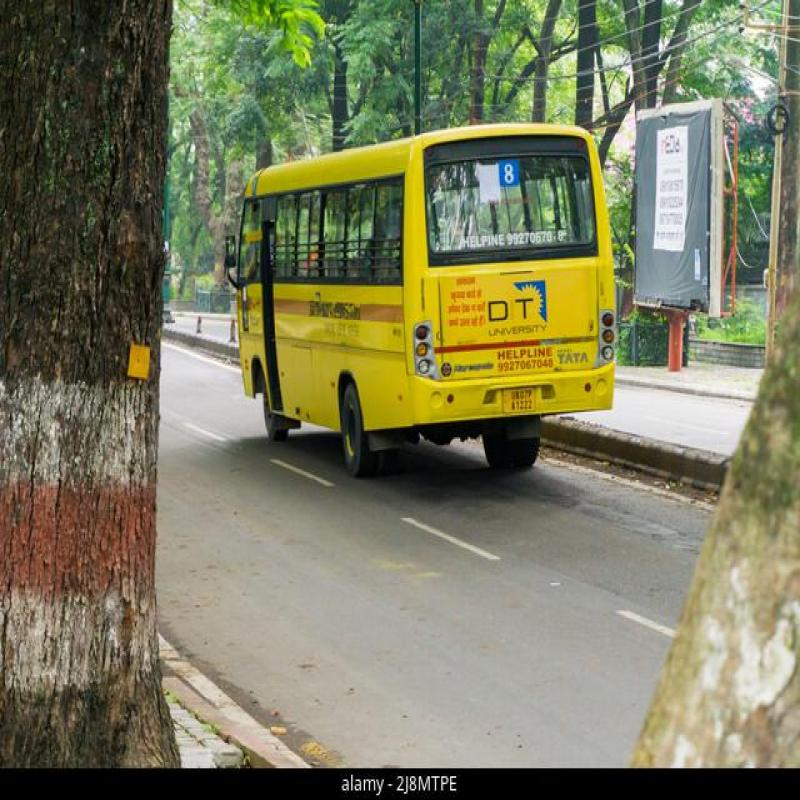bus: (222, 119, 636, 506)
